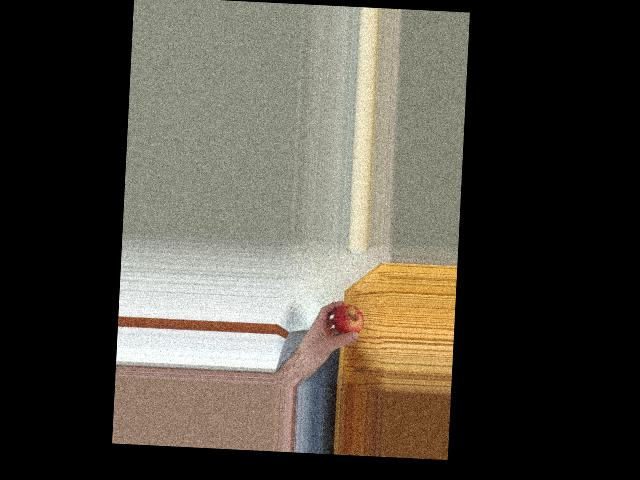apple: (330, 302, 366, 339)
